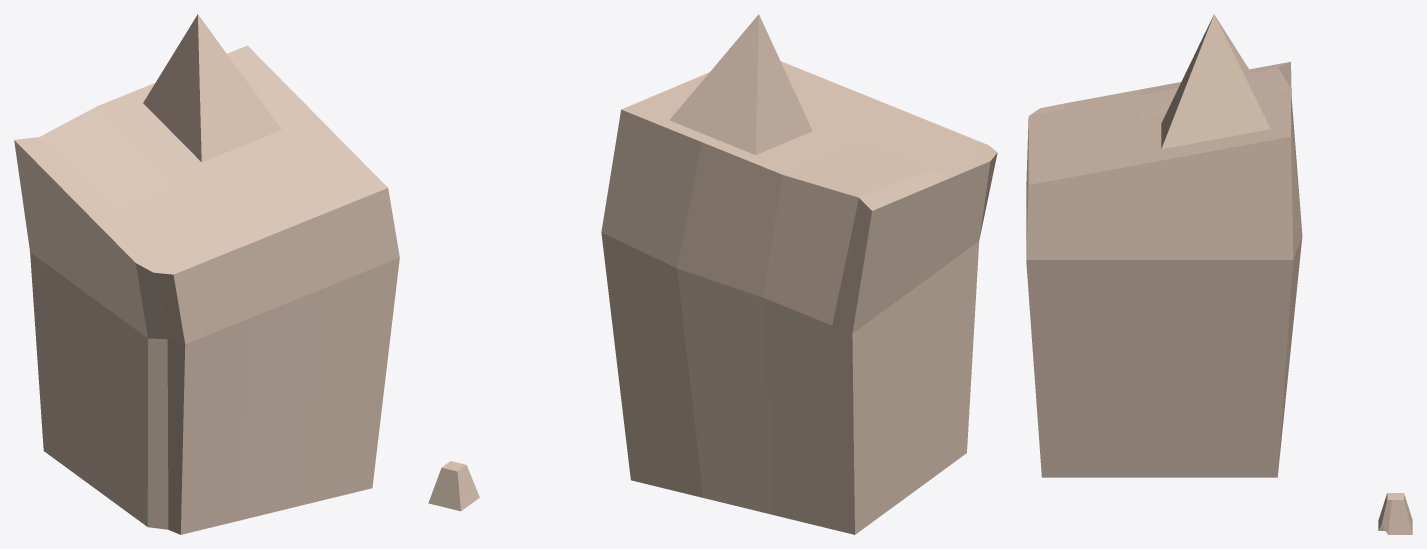
The model's file is rock_var1.fbx.
3 views of the same model, side by side, from view 1: azimuth 30°, elevation 25°; view 2: azimuth 150°, elevation 25°; view 3: azimuth 270°, elevation 25° (orthographic). The views are drawn at different scales.
Parts seen in each view (by area): view 1: Cube; view 2: Cube; view 3: Cube.
Part boxes in pixels (x1,y1,x2,y2): Cube: (14,14,399,534); Cube: (428,14,997,534); Cube: (1026,14,1412,534).
Size of the model in its own units: 336 by 328 by 395.
